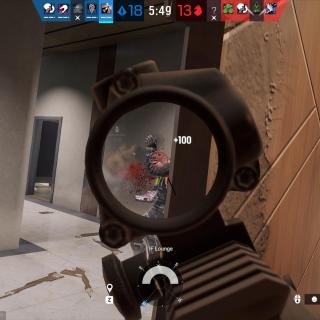Character: (128, 135, 174, 257)
